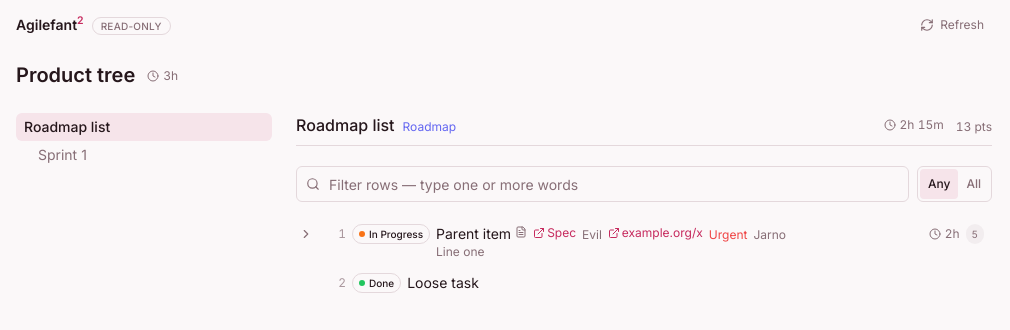
Scenario: public list page › puts hyperlinks on the row, clickable, opening in a new tab
Expected: the text "Parent item" is shown, 436,224 -> 511,244
Expected: the text "Line one" is shown, 436,244 -> 484,259
Click the button "Parent item".
click(482, 234)  # box 436,224 -> 527,244
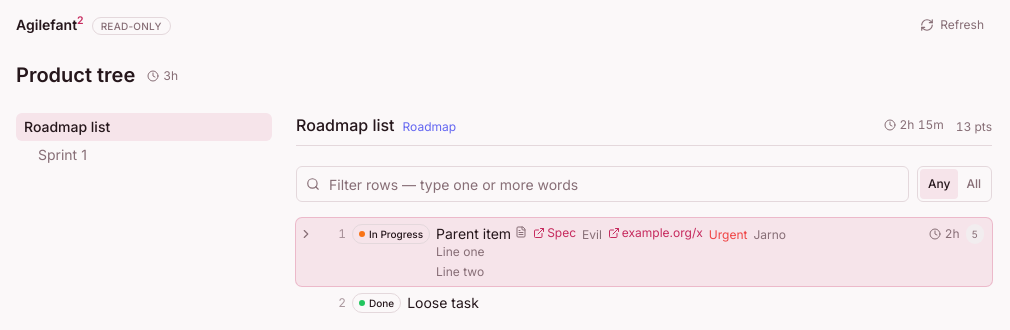
Expected: the text "Line two" is shown, 436,264 -> 484,279
